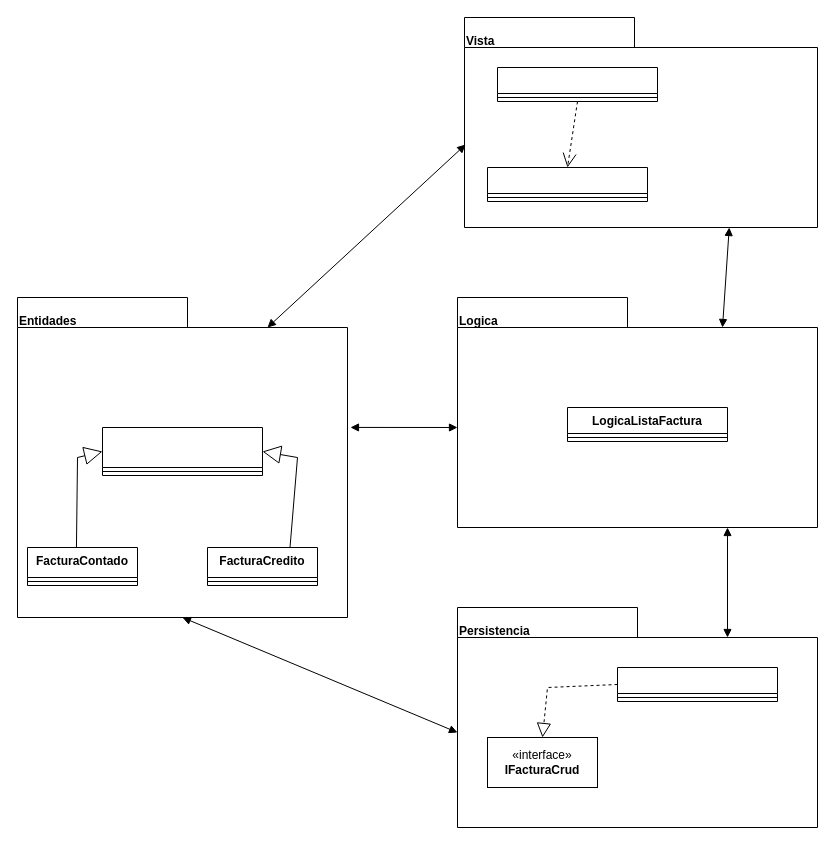
This 835x845 diagram has some shape labels left out. Here are the shapes that lost their labels. From the top down, the centre of each, then its label:
At point (577, 84): "VistaConsola".
At point (567, 184): "Entrada".
At point (182, 451): "<<abstract>> Factura".
At point (697, 684): "ListaFactura".
